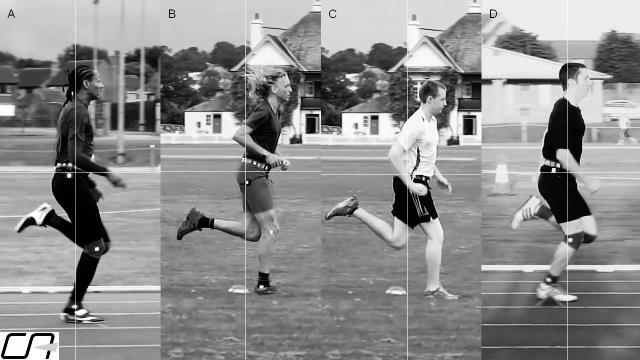berlari: (324, 68, 468, 300), (172, 61, 306, 301), (13, 57, 116, 332), (508, 50, 604, 307)
